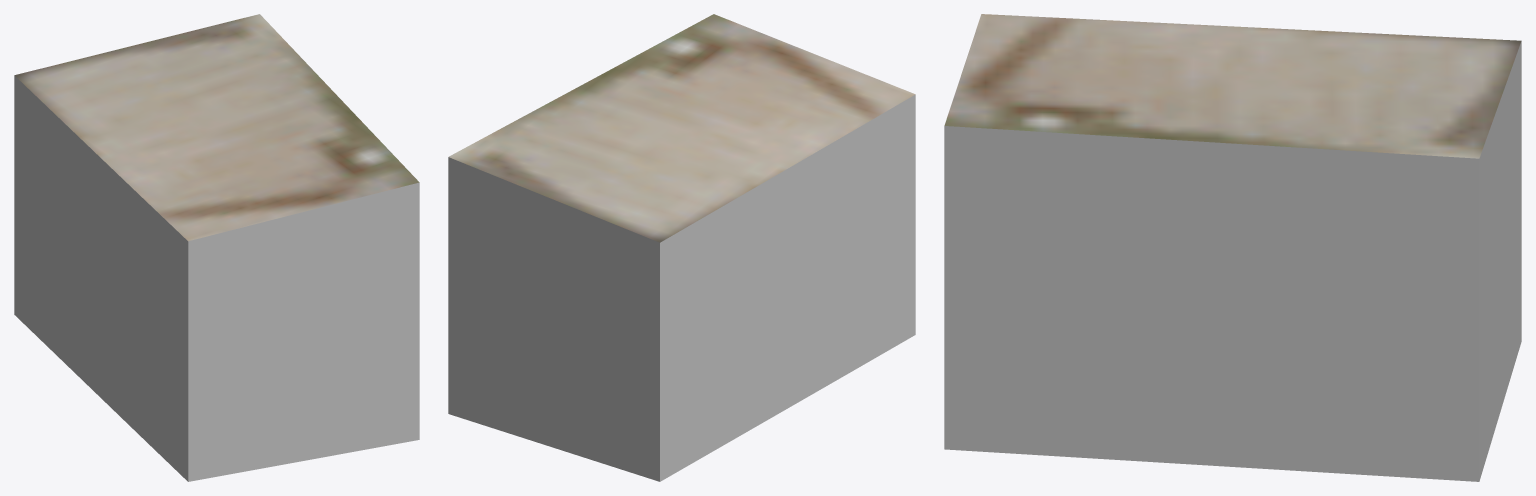
Rendered from DEBW_0010007Tx5s.gltf.
The picture shows the model from 3 angles, left to right: view 1: azimuth 30°, elevation 25°; view 2: azimuth 150°, elevation 25°; view 3: azimuth 270°, elevation 25°; orthographic projection. The views are drawn at different scales.
Visible parts, largest first — view 1: Z_UP; view 2: Z_UP; view 3: Z_UP.
Boxes of the visible parts, x1,y1,x2,y2 form: Z_UP: [14, 14, 419, 481]; Z_UP: [448, 14, 915, 481]; Z_UP: [944, 14, 1521, 481].
Size of the model in its own units: 6.77 by 6.17 by 9.98.
2 materials, 1 textured.
